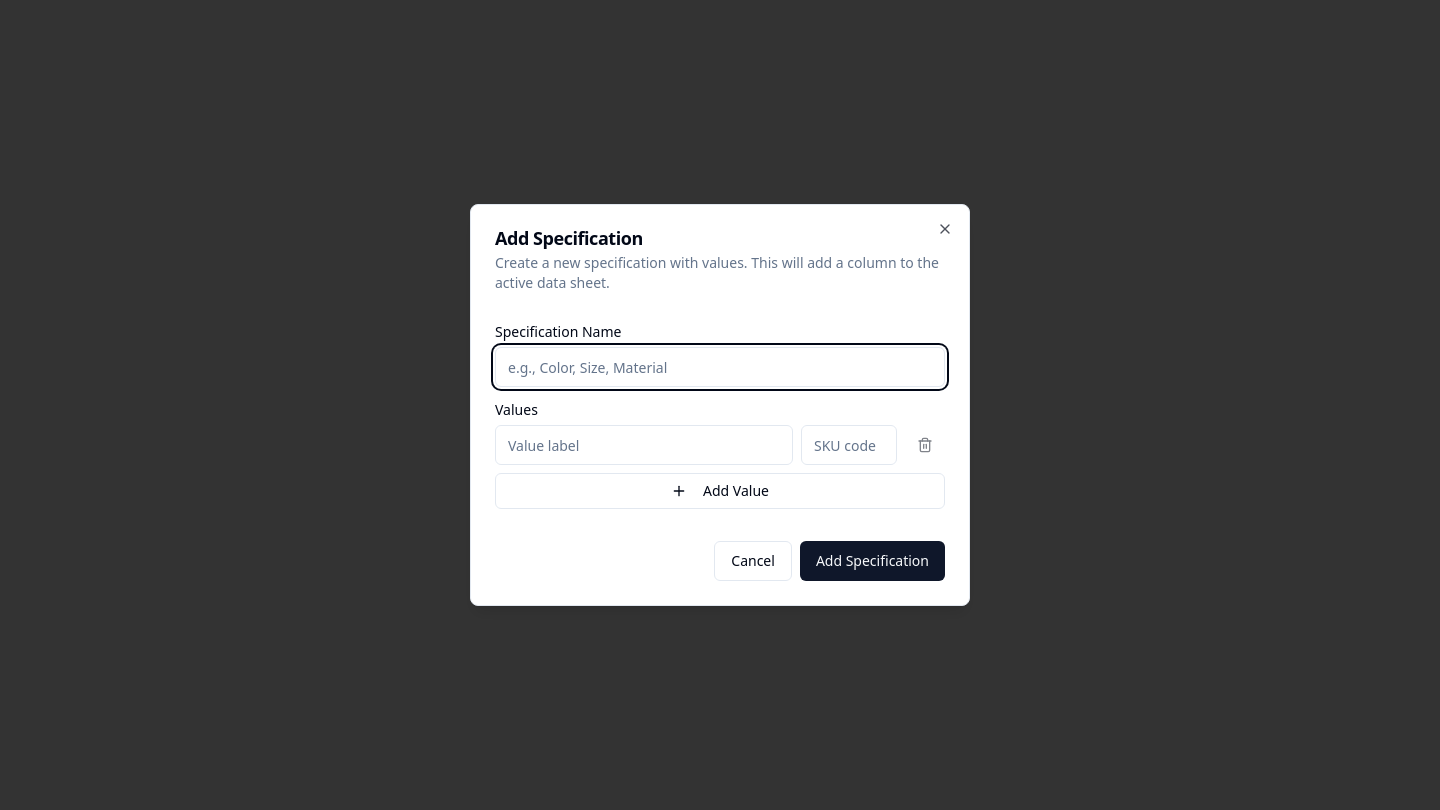
it: AddSpecDialog › shows error when submitting without specification name
# Add a value but no spec name
Type "Red" into the field named "Value 1 label" at (644, 445), box top-left (495, 425), bottom-right (793, 465)
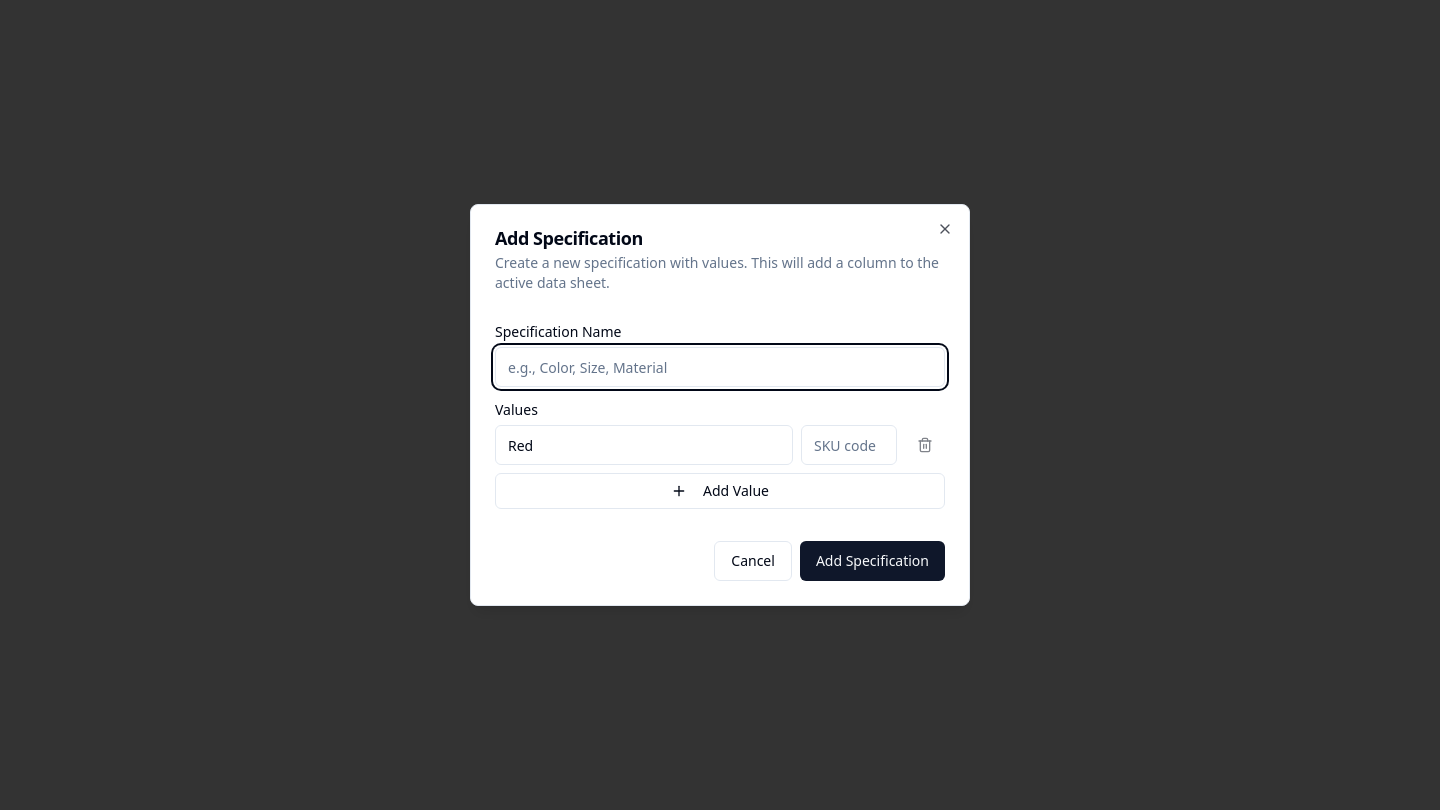
Click the button "Add Specification" at (872, 561), box top-left (800, 541), bottom-right (945, 581)
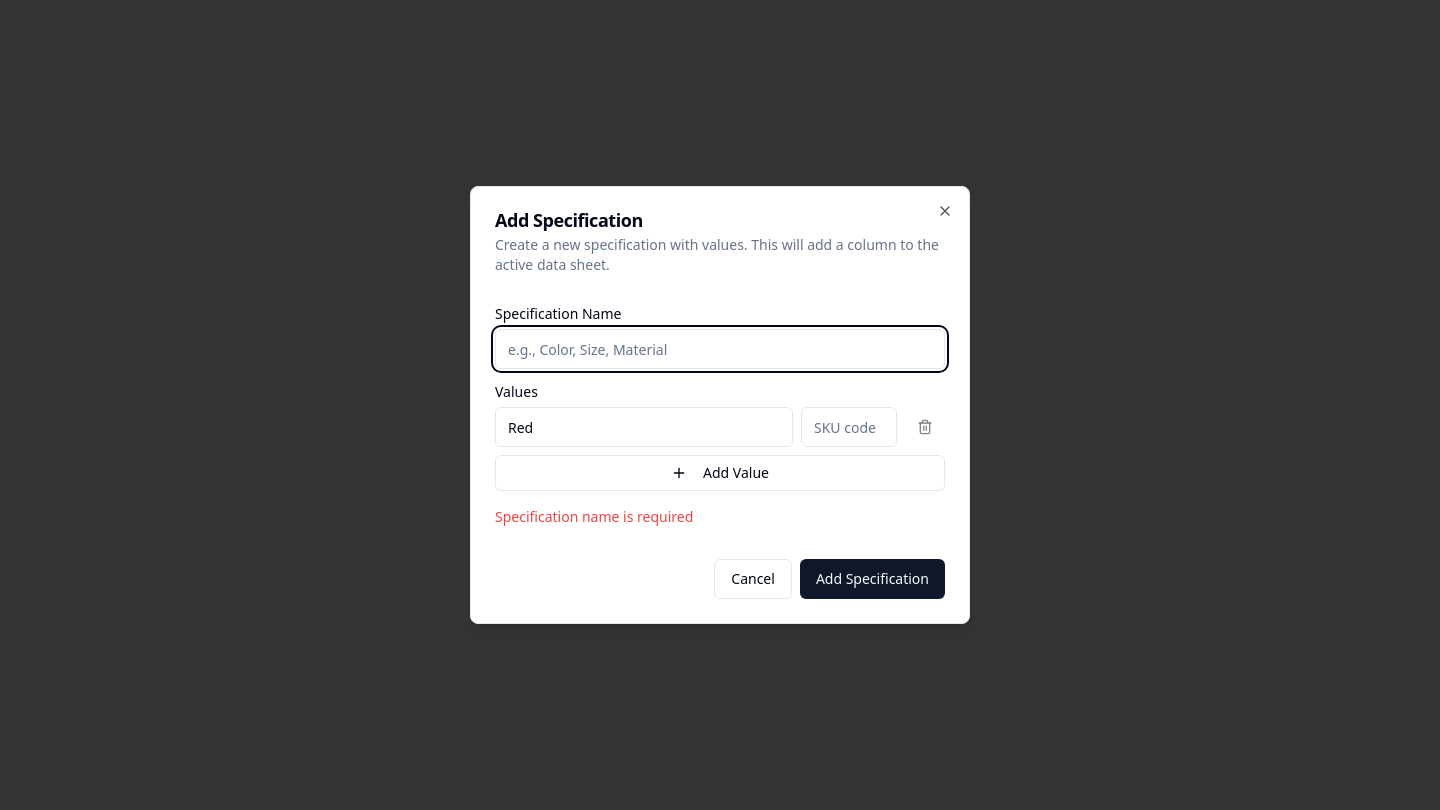
Expected: the message reads "Specification name is required", top-left (495, 507), bottom-right (693, 526)
